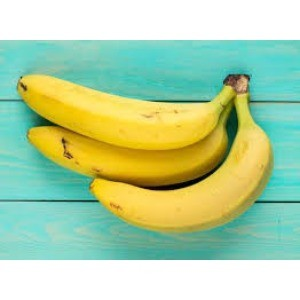banana_brain food: (49, 89, 253, 206)
